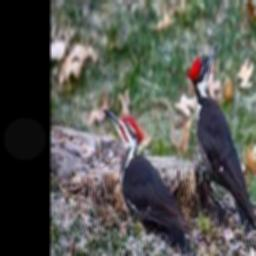Woodpecker: (186, 45, 256, 237), (103, 107, 195, 240)
